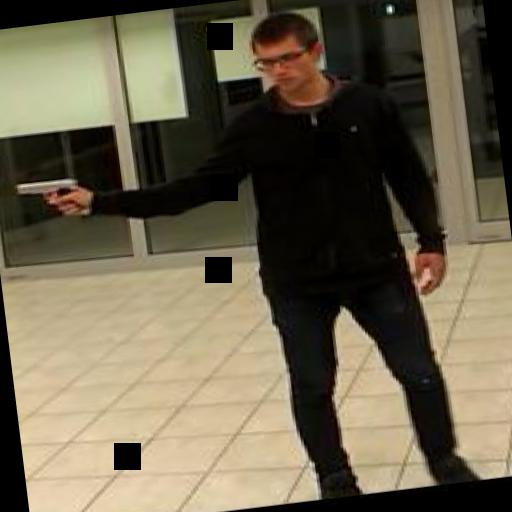Handgun: (10, 170, 90, 221)
